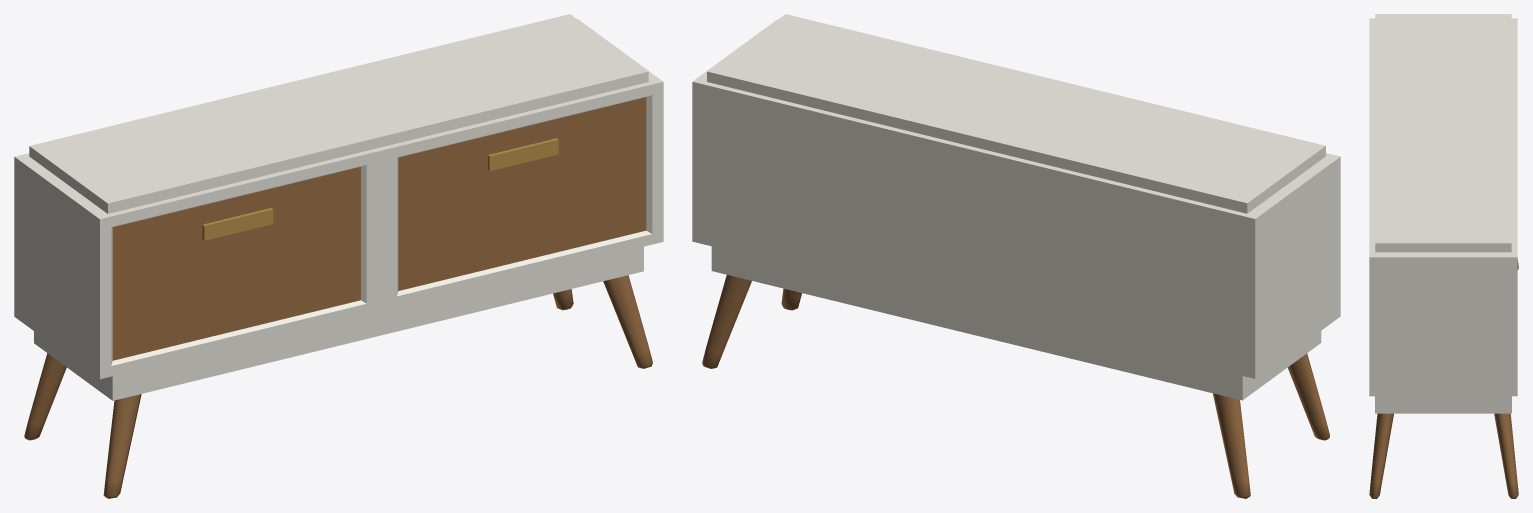
Rendered from pk_sideboard_white.glb.
The picture shows the model from 3 angles, left to right: view 1: azimuth 30°, elevation 25°; view 2: azimuth 150°, elevation 25°; view 3: azimuth 270°, elevation 25°; orthographic projection. The views are drawn at different scales.
Parts seen in each view (by area): view 1: pk_sideboard_white; view 2: pk_sideboard_white; view 3: pk_sideboard_white.
Part boxes in pixels (x1,y1,x2,y2): pk_sideboard_white: (14, 14, 663, 498); pk_sideboard_white: (692, 14, 1340, 498); pk_sideboard_white: (1369, 14, 1518, 498).
Size of the model in its own units: 1.7 by 0.85 by 0.45.
Materials: 1 (1 with a texture image).
